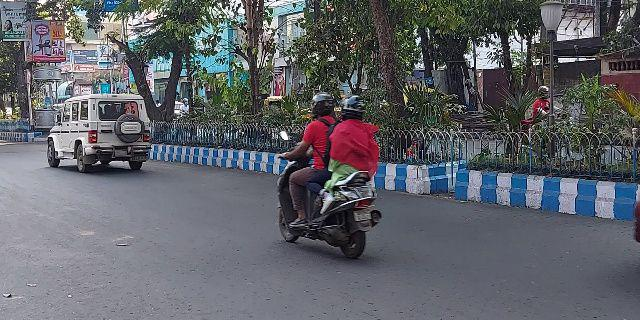Car: (42, 91, 152, 174)
Motorbike: (272, 90, 382, 263)
